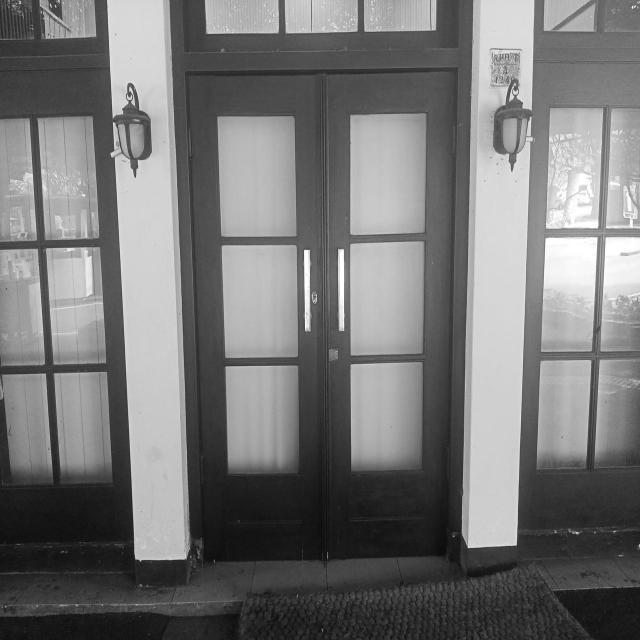door: (175, 52, 470, 566)
